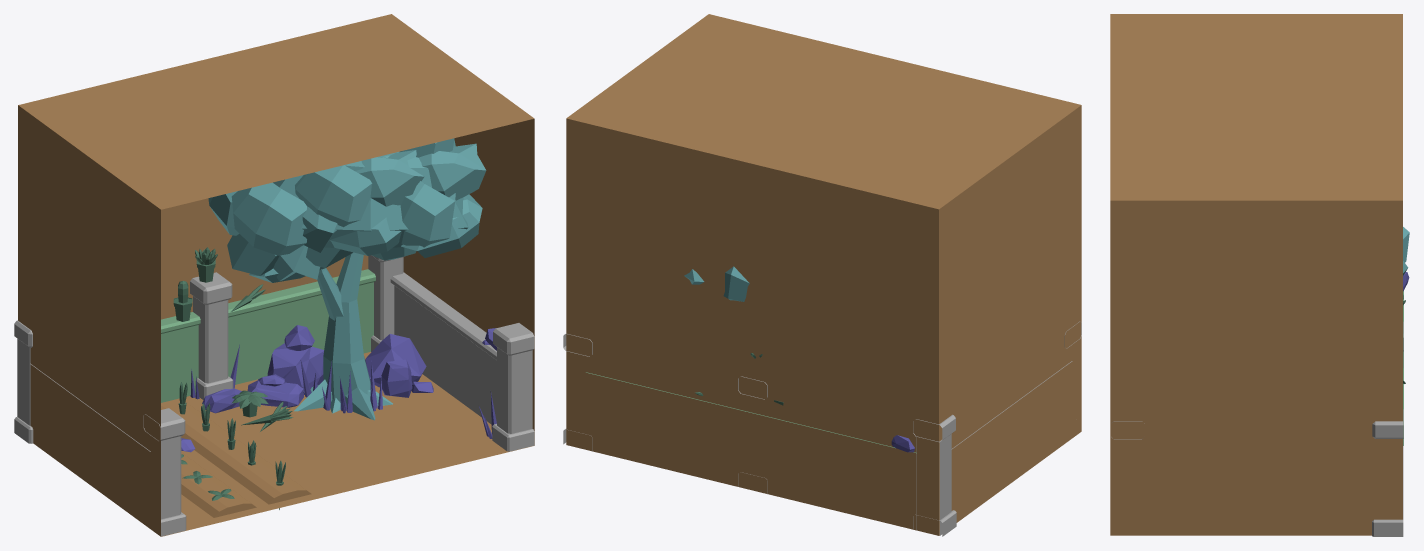
File: outside_area_garden.fbx
3 views of the same model, side by side, from view 1: azimuth 30°, elevation 25°; view 2: azimuth 150°, elevation 25°; view 3: azimuth 270°, elevation 25° (orthographic). The views are drawn at different scales.
Parts seen in each view (by area): view 1: polySurface27, polySurface1, wall_long_modular, wall_short_modular1, pillar_modular2, pCylinder2, pillar_modular4, pillar_modular3, pCylinder1, pillar_modular, pillar_modular1, stone8 (+5 smaller); view 2: polySurface27, pillar_modular1, polySurface1; view 3: polySurface27, pillar_modular.
Part boxes in pixels (box(x1,y1,x2,y2)): polySurface27: box(18, 14, 534, 536); polySurface1: box(208, 138, 486, 420); wall_long_modular: box(161, 269, 375, 402); wall_short_modular1: box(390, 272, 496, 424); pillar_modular2: box(492, 323, 534, 451); pCylinder2: box(161, 402, 311, 504); pillar_modular4: box(190, 272, 233, 399); pillar_modular3: box(143, 408, 186, 536); pCylinder1: box(181, 452, 256, 517); pillar_modular: box(368, 255, 404, 351); pillar_modular1: box(14, 320, 33, 443); stone8: box(267, 343, 323, 394); polySurface27: box(566, 14, 1081, 535); pillar_modular1: box(913, 414, 956, 536); polySurface1: box(684, 266, 749, 301); polySurface27: box(1110, 14, 1402, 535); pillar_modular: box(1372, 409, 1403, 536).
Size of the model in its own units: 258 by 172 by 225.
